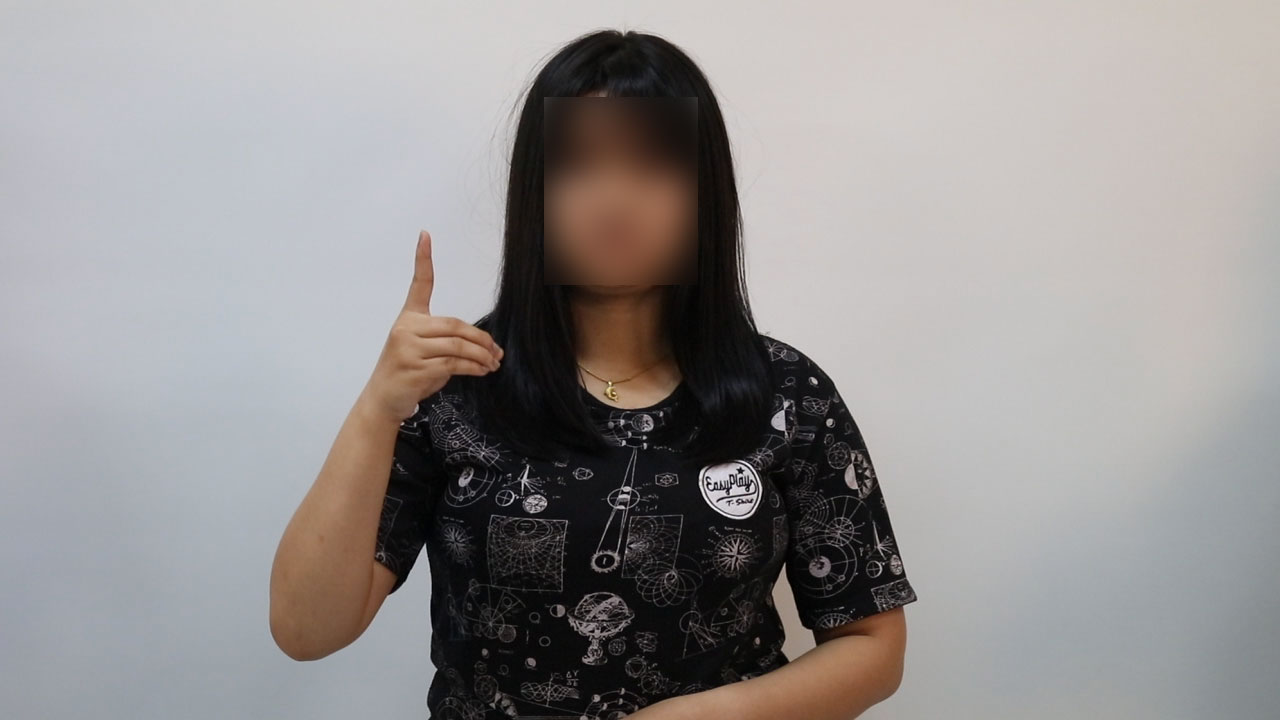dor: (351, 223, 513, 419)
